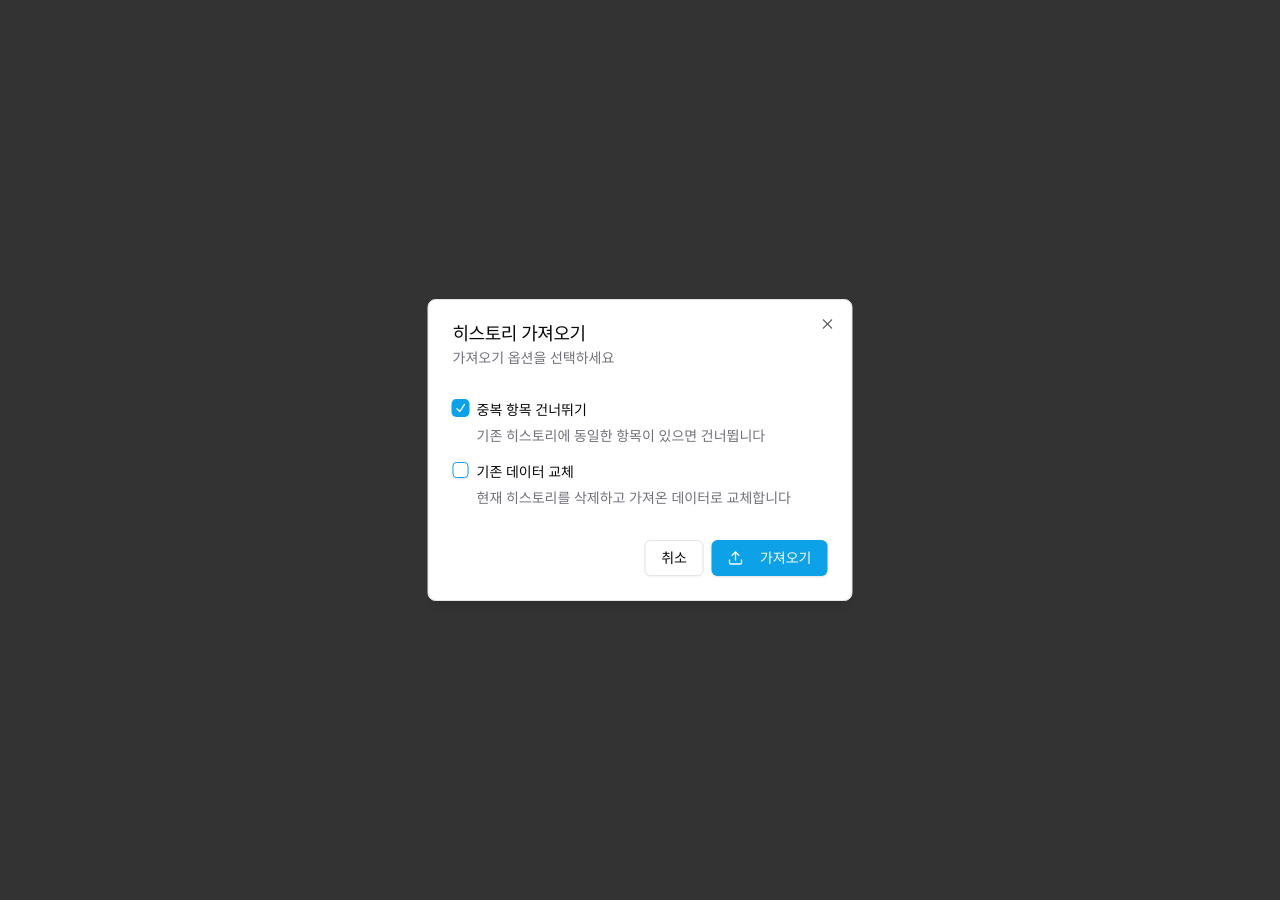
Test: ImportDialog › checkbox interactions › shows warning alert when replace existing is checked
The width and height of the screenshot is (1280, 900).
// replaceExisting is the second checkbox
Click the checkbox next to "기존 데이터 교체" at point(460, 470), box top-left (452, 462), bottom-right (468, 478)
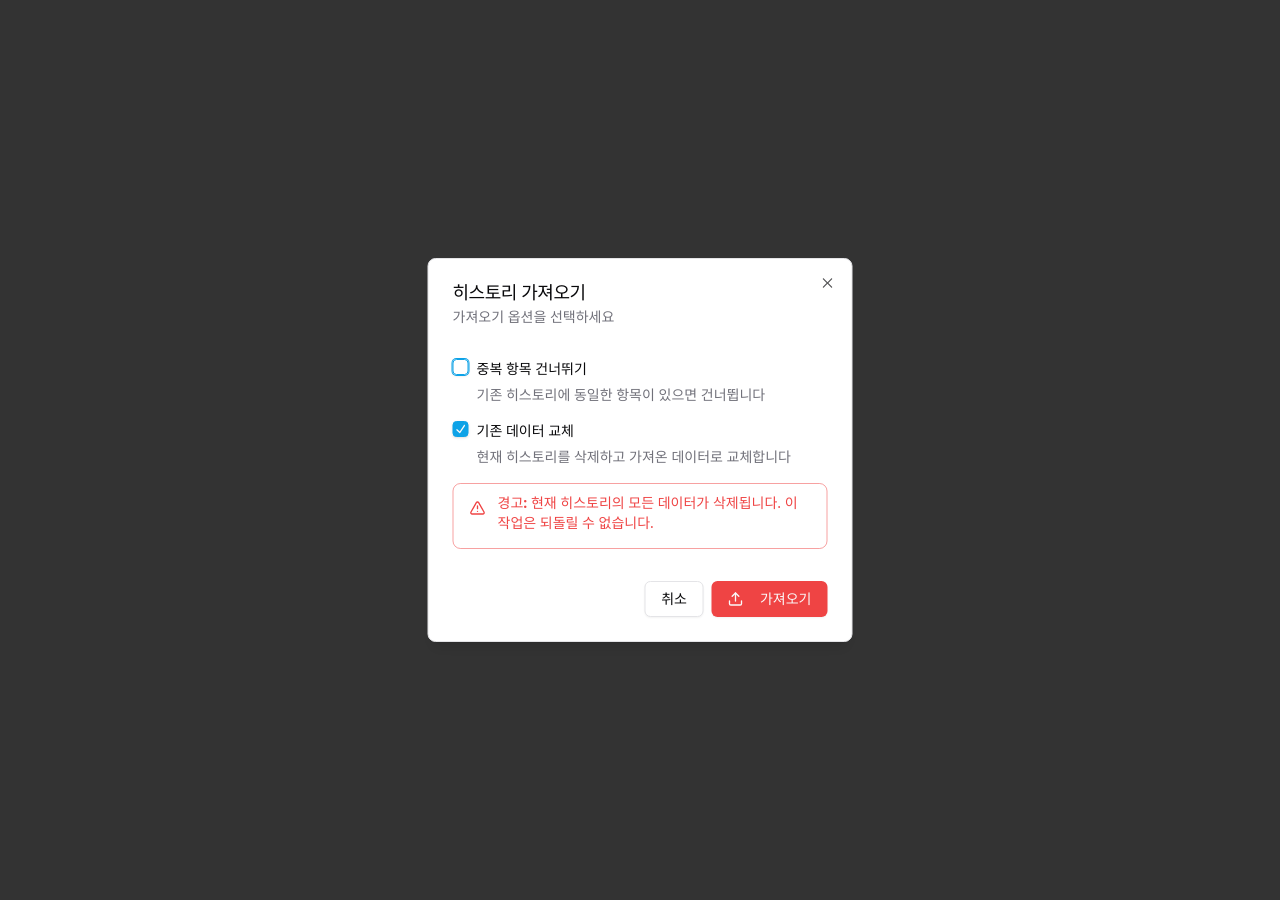
expect the text "경고:" is shown: met, box top-left (498, 493), bottom-right (527, 512)
